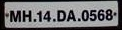character: (8, 10, 21, 23), (56, 9, 66, 22), (66, 9, 76, 22), (22, 10, 31, 22), (42, 10, 51, 22), (80, 9, 88, 21), (88, 9, 96, 21), (104, 9, 112, 21), (97, 9, 104, 21), (36, 10, 42, 22)
